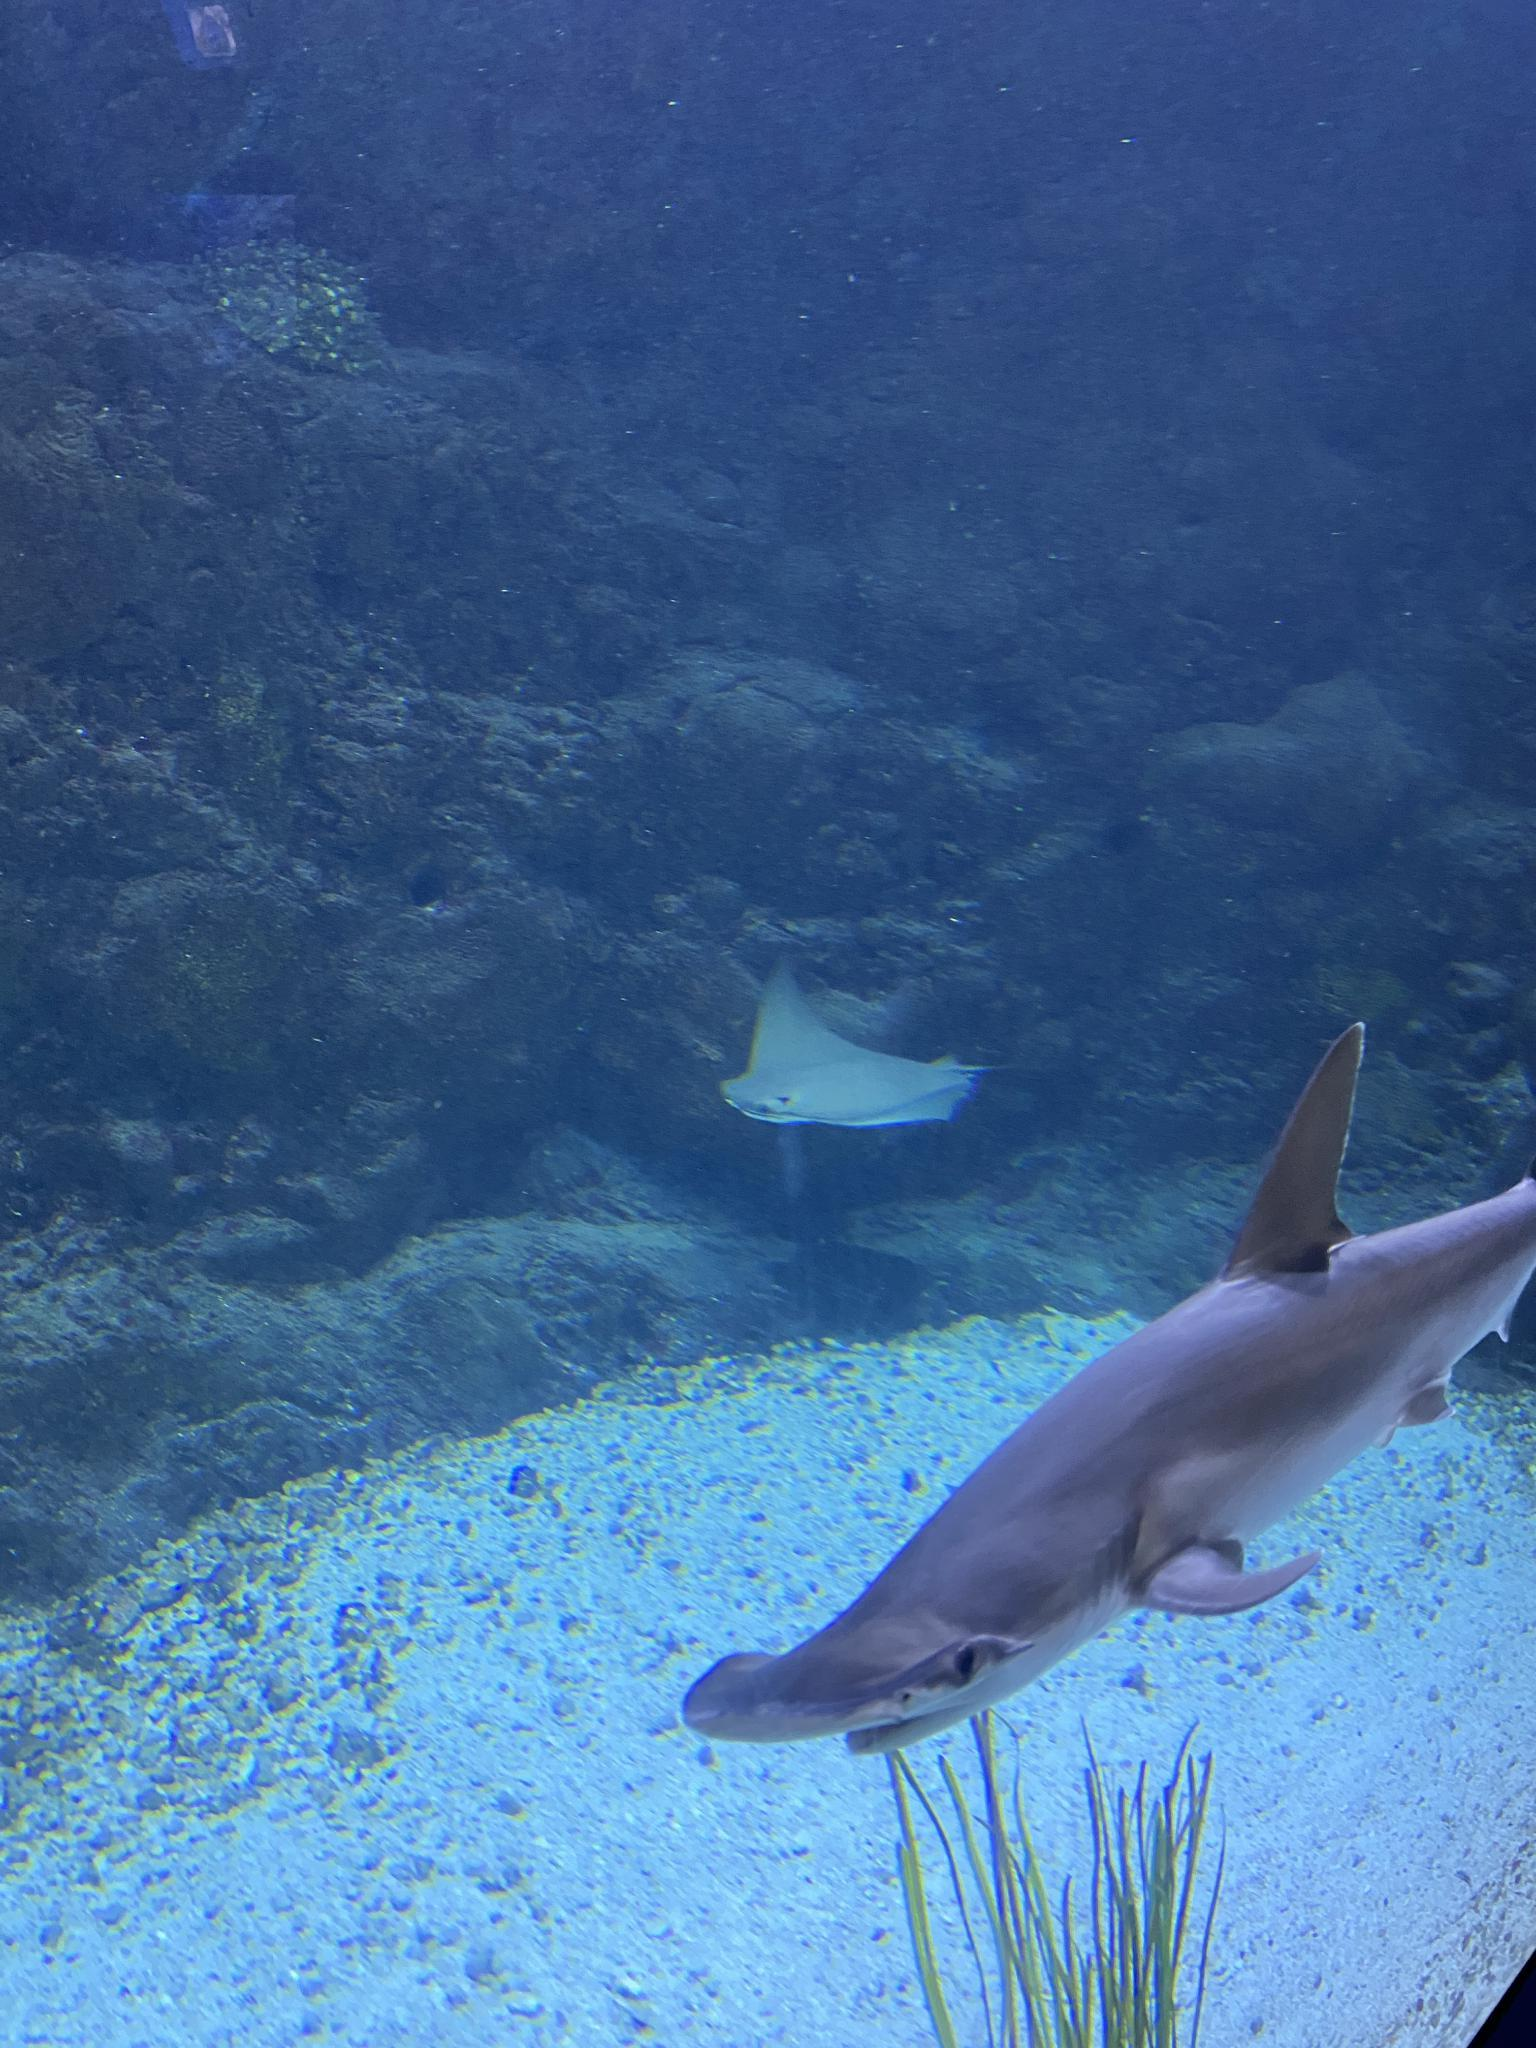shark: (689, 1048, 1536, 1758)
stingray: (684, 947, 976, 1172)
